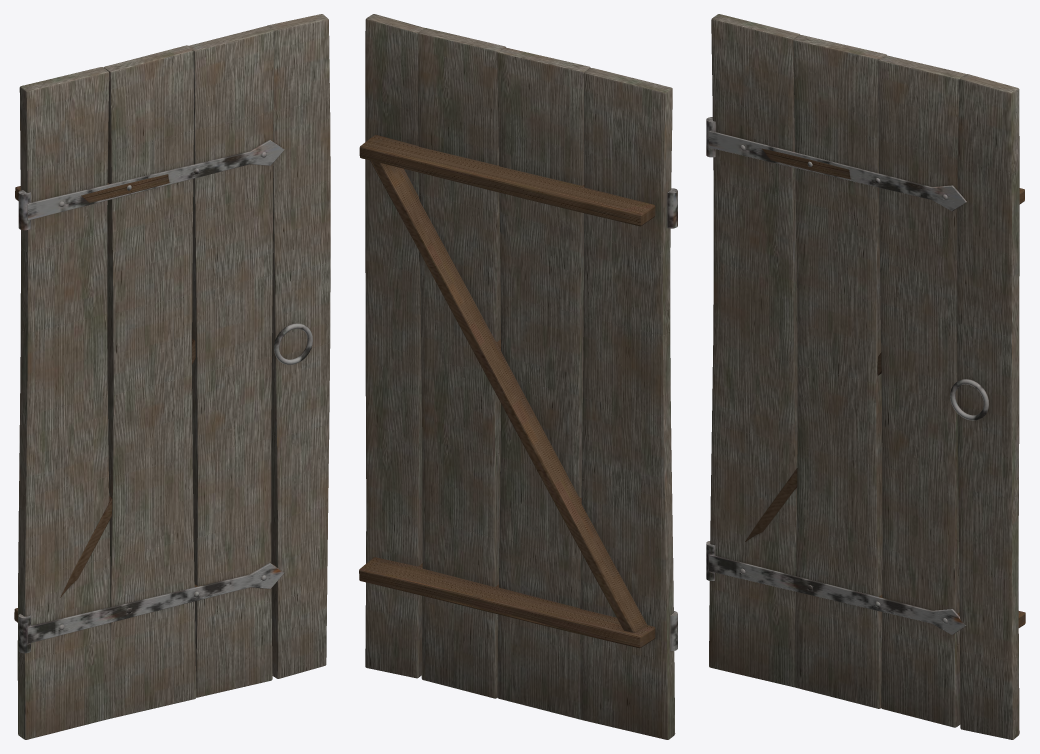
The model's file is door_plank.glb.
The picture shows the model from 3 angles, left to right: view 1: azimuth 30°, elevation 25°; view 2: azimuth 150°, elevation 25°; view 3: azimuth 330°, elevation 25°; orthographic projection.
Parts seen in each view (by area): view 1: door_plank; view 2: door_plank; view 3: door_plank.
Boxes of the visible parts, x1,y1,x2,y2 form: door_plank: [14, 14, 330, 739]; door_plank: [359, 14, 677, 739]; door_plank: [706, 14, 1025, 739].
Bounding box in the file's own units: 0.9165 × 1.84 × 0.147.
Materials: 1 (1 with a texture image).
